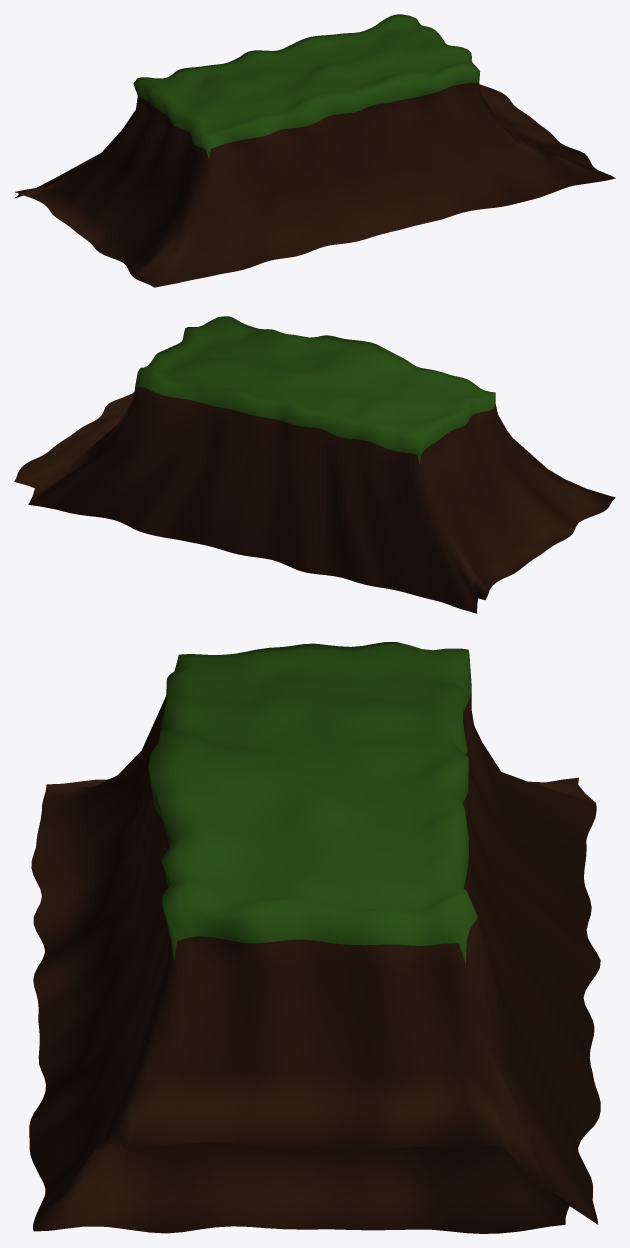
Rendered from Mountain03_Mapa08_DBZ.FBX.
3 renders of one model, top to bottom at view 1: azimuth 30°, elevation 25°; view 2: azimuth 150°, elevation 25°; view 3: azimuth 270°, elevation 25°, orthographic. The views are drawn at different scales.
Parts seen in each view (by area): view 1: Plane002; view 2: Plane002; view 3: Plane002.
Boxes of the visible parts, x1,y1,x2,y2 form: Plane002: (14,14,615,287); Plane002: (14,316,615,613); Plane002: (29,642,600,1233).
Bounding box in the file's own units: 670 × 176 × 355.
